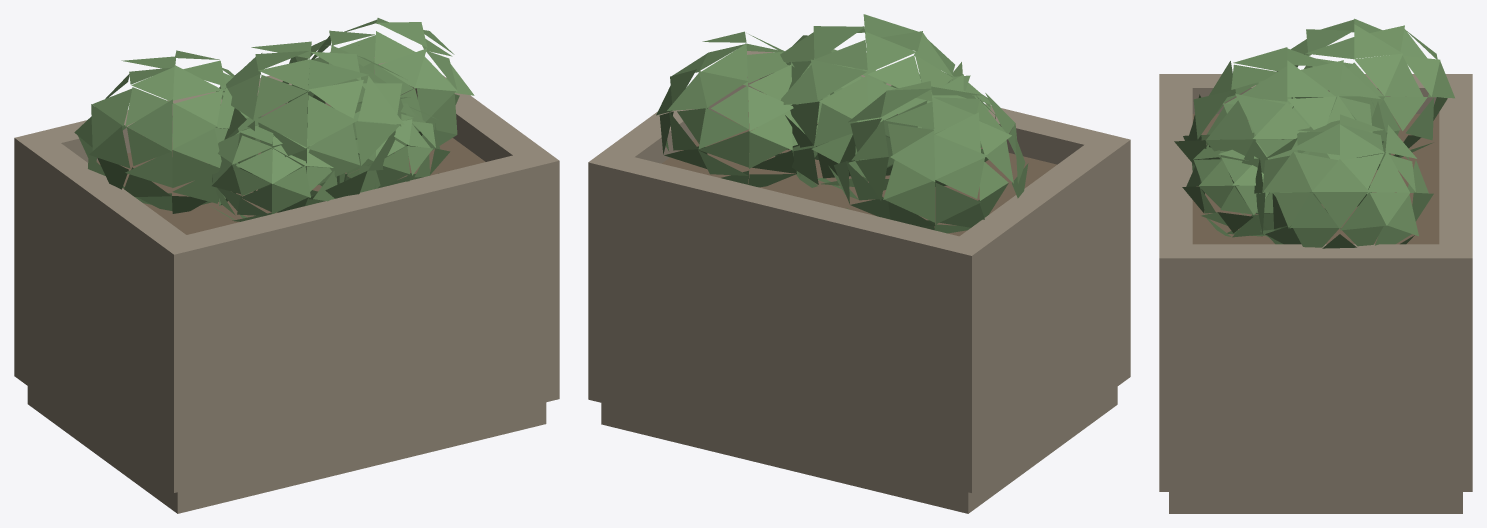
File: planter-concrete.glb
3 views of the same model, side by side, from view 1: azimuth 30°, elevation 25°; view 2: azimuth 150°, elevation 25°; view 3: azimuth 270°, elevation 25° (orthographic).
Visible parts, largest first — view 1: planter; view 2: planter; view 3: planter.
Boxes of the visible parts, <box> form: planter: <box>14,18,559,513</box>; planter: <box>588,14,1130,513</box>; planter: <box>1159,18,1472,513</box>.
Size of the model in its own units: 0.914 by 0.854 by 0.656.
